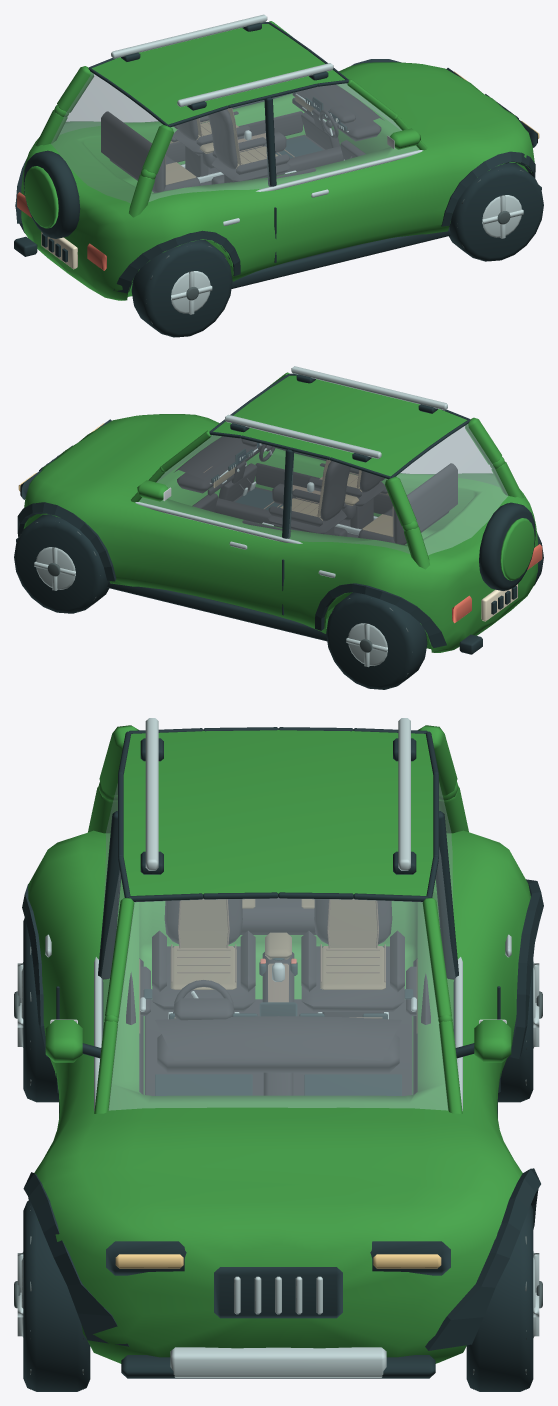
File: jeep.glb
The picture shows the model from 3 angles, top to bottom: view 1: azimuth 30°, elevation 25°; view 2: azimuth 150°, elevation 25°; view 3: azimuth 270°, elevation 25°; orthographic projection. The views are drawn at different scales.
Visible parts, largest first — view 1: Paint jeep, Automotive glass.001, Rolling wheels.001, Cabin upholstery.001, Tyre rubber.001, Wheel hubs.001, Tailored cabin leather.001, Tail lamp.001, Warm white trim.001; view 2: Paint jeep, Automotive glass.001, Rolling wheels.001, Cabin upholstery.001, Tyre rubber.001, Wheel hubs.001, Tailored cabin leather.001, Tail lamp.001, Warm white trim.001; view 3: Paint jeep, Automotive glass.001, Tyre rubber.001, Cabin upholstery.001, Rolling wheels.001, Wheel hubs.001, Tailored cabin leather.001, Seat stitching and console.001, Headlamp.001.
Part boxes in pixels (x1,y1,x2,y2): Paint jeep: [21, 21, 534, 300]; Automotive glass.001: [51, 72, 418, 203]; Rolling wheels.001: [15, 163, 543, 337]; Cabin upholstery.001: [101, 84, 383, 192]; Tyre rubber.001: [14, 22, 541, 293]; Wheel hubs.001: [111, 14, 517, 225]; Tailored cabin leather.001: [165, 94, 315, 184]; Tail lamp.001: [17, 192, 106, 270]; Warm white trim.001: [41, 119, 336, 269]; Paint jeep: [23, 372, 537, 652]; Automotive glass.001: [139, 424, 508, 554]; Rolling wheels.001: [14, 514, 543, 689]; Cabin upholstery.001: [175, 436, 457, 544]; Tyre rubber.001: [16, 373, 538, 654]; Wheel hubs.001: [41, 366, 447, 577]; Tailored cabin leather.001: [213, 460, 393, 536]; Tail lamp.001: [452, 544, 542, 623]; Warm white trim.001: [481, 584, 517, 621]; Paint jeep: [28, 725, 530, 1363]; Automotive glass.001: [101, 783, 455, 1110]; Tyre rubber.001: [22, 727, 543, 1378]; Cabin upholstery.001: [126, 897, 430, 1095]; Rolling wheels.001: [14, 918, 542, 1391]; Wheel hubs.001: [45, 718, 511, 1377]; Tailored cabin leather.001: [139, 899, 417, 1033]; Seat stitching and console.001: [171, 899, 385, 1018]; Headlamp.001: [115, 1254, 441, 1268].
Size of the model in its own units: 1.99 by 0.8495 by 1.03.
